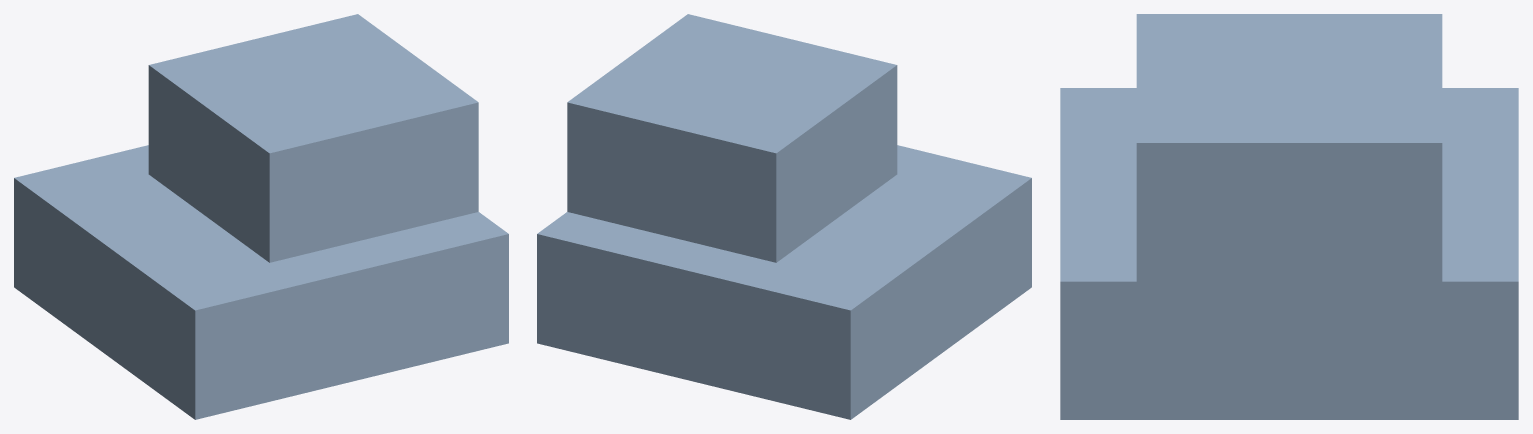
The model's file is stone-03.obj.
3 views of the same model, side by side, from view 1: azimuth 30°, elevation 25°; view 2: azimuth 150°, elevation 25°; view 3: azimuth 270°, elevation 25° (orthographic). The views are drawn at different scales.
Size of the model in its own units: 3 by 2 by 3.
Materials: 1 (1 with a texture image).
